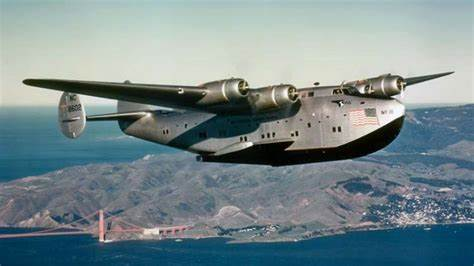Aeronef_militaire: (16, 67, 464, 169)
